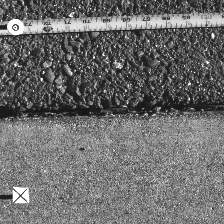circle: (7, 19, 25, 35)
crack: (1, 102, 223, 122)
square: (12, 187, 29, 204)
